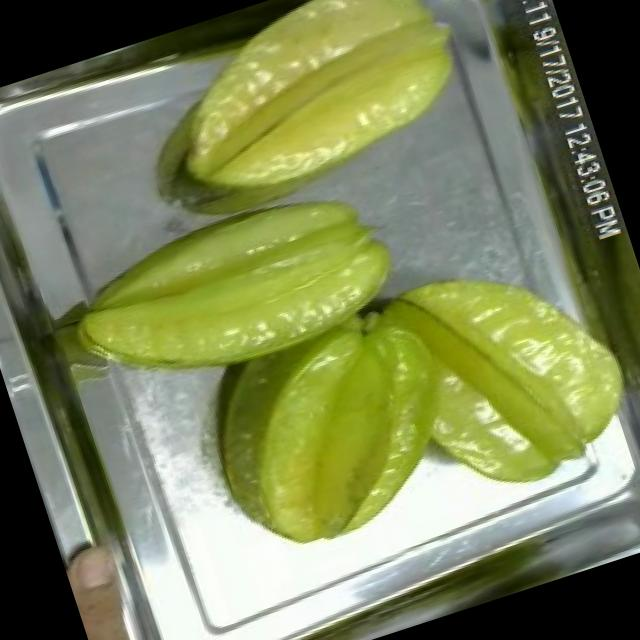fruit: (174, 272, 528, 580), (40, 154, 420, 429), (355, 220, 640, 533), (127, 0, 493, 231), (563, 191, 640, 426), (57, 523, 186, 640)
